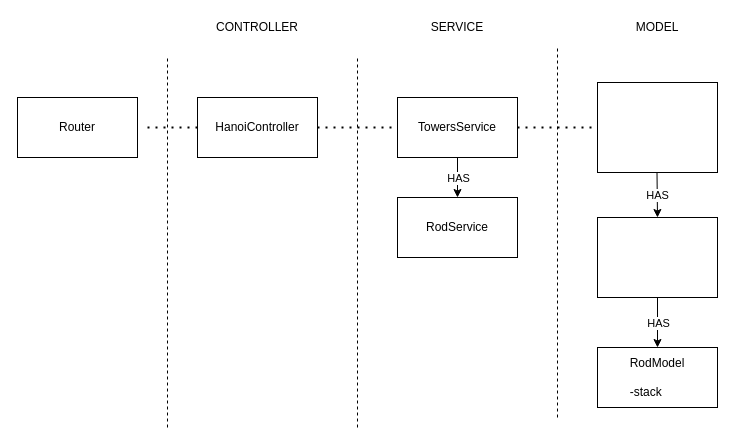
The diagram is 735 pixels wide and 446 high, and some of its shapes have lost their labels. The shapes that lost their labels are listed below. From the top down, each one's centre as x and y in pixels, then its label:
the point at 657,127: AnswerModel - Message -TowersModel
the point at 657,257: TowersModel -rods
